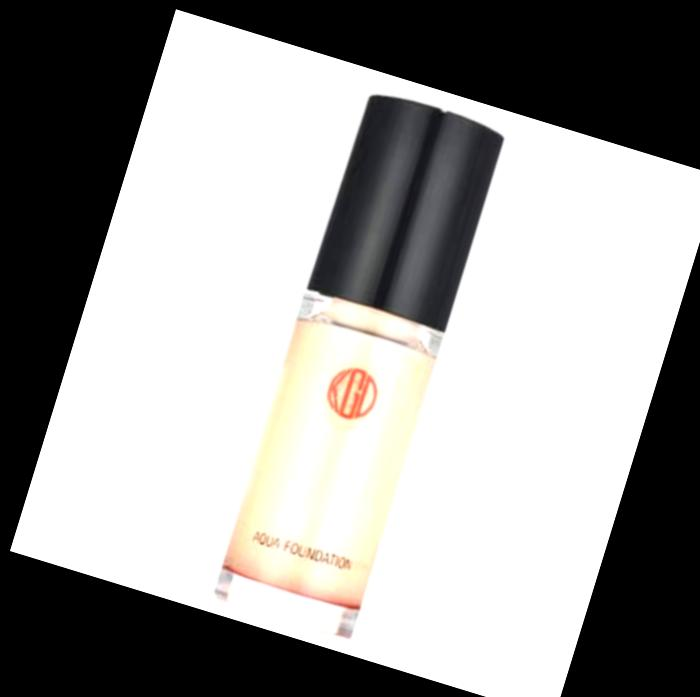cosmetic: (207, 86, 511, 645)
